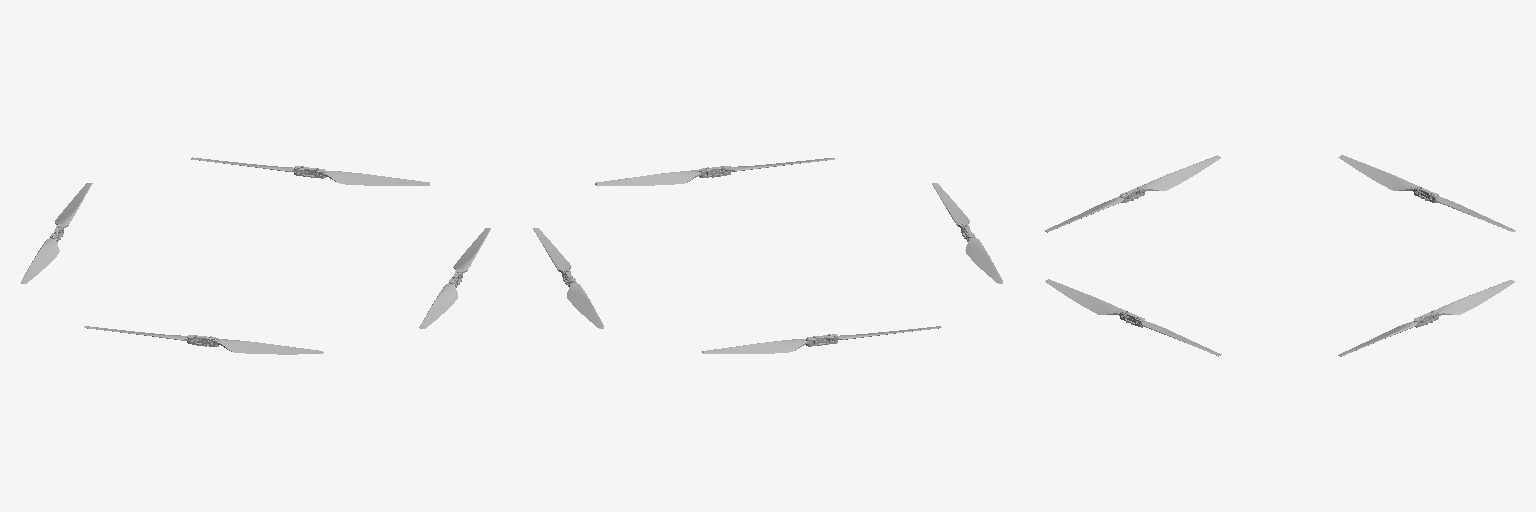
The robot description file, URDF, robot "drone_ros_sim_urdf":
<?xml version="1.0" encoding="utf-8"?>
<!-- This URDF was automatically created by SolidWorks to URDF Exporter! Originally created by Stephen Brawner ([email redacted]) 
     Commit Version: 1.6.0-4-g7f85cfe  Build Version: 1.6.7995.38578
     For more information, please see http://wiki.ros.org/sw_urdf_exporter -->
<robot
  name="drone_ros_sim_urdf">
  <link
    name="frame">
    <inertial>
      <origin
        xyz="-0.00033488 -8.1535E-05 0.46442"
        rpy="0 0 0" />
      <mass
        value="7.9807" />
      <inertia
        ixx="0.033649"
        ixy="1.2106E-06"
        ixz="-2.0293E-06"
        iyy="0.029642"
        iyz="-1.0527E-07"
        izz="0.046218" />
    </inertial>
    <visual>
      <origin
        xyz="0 0 0"
        rpy="0 0 0" />
      <geometry>
        <mesh
          filename="package://drone_ros_sim_urdf/meshes/frame.STL" />
      </geometry>
      <material
        name="">
        <color
          rgba="1 1 1 1" />
      </material>
    </visual>
    <collision>
      <origin
        xyz="0 0 0"
        rpy="0 0 0" />
      <geometry>
        <mesh
          filename="package://drone_ros_sim_urdf/meshes/frame.STL" />
      </geometry>
    </collision>
  </link>
  <link
    name="prop1_ccw">
    <inertial>
      <origin
        xyz="0.45342 0.45343 0.54325"
        rpy="0 0 0" />
      <mass
        value="0.10735" />
      <inertia
        ixx="0.00027815"
        ixy="0.00028006"
        ixz="1.0025E-08"
        iyy="0.00030502"
        iyz="-8.1576E-09"
        izz="0.00058081" />
    </inertial>
    <visual>
      <origin
        xyz="0 0 0"
        rpy="0 0 0" />
      <geometry>
        <mesh
          filename="package://drone_ros_sim_urdf/meshes/prop1_ccw.STL" />
      </geometry>
      <material
        name="">
        <color
          rgba="0.75294 0.75294 0.75294 1" />
      </material>
    </visual>
    <collision>
      <origin
        xyz="0 0 0"
        rpy="0 0 0" />
      <geometry>
        <mesh
          filename="package://drone_ros_sim_urdf/meshes/prop1_ccw.STL" />
      </geometry>
    </collision>
  </link>
  <joint
    name="joint1"
    type="continuous">
    <origin
      xyz="0 0 0"
      rpy="0 0 0" />
    <parent
      link="frame" />
    <child
      link="prop1_ccw" />
    <axis
      xyz="0 0 1" />
    <limit
      effort="9.55"
      velocity="10.472" />
  </joint>
  <link
    name="prop2_ccw">
    <inertial>
      <origin
        xyz="-0.45273 -0.45272 0.54325"
        rpy="0 0 0" />
      <mass
        value="0.10735" />
      <inertia
        ixx="0.00027815"
        ixy="0.00028006"
        ixz="1.0025E-08"
        iyy="0.00030502"
        iyz="-8.158E-09"
        izz="0.00058081" />
    </inertial>
    <visual>
      <origin
        xyz="0 0 0"
        rpy="0 0 0" />
      <geometry>
        <mesh
          filename="package://drone_ros_sim_urdf/meshes/prop2_ccw.STL" />
      </geometry>
      <material
        name="">
        <color
          rgba="0.75294 0.75294 0.75294 1" />
      </material>
    </visual>
    <collision>
      <origin
        xyz="0 0 0"
        rpy="0 0 0" />
      <geometry>
        <mesh
          filename="package://drone_ros_sim_urdf/meshes/prop2_ccw.STL" />
      </geometry>
    </collision>
  </link>
  <joint
    name="joint2"
    type="continuous">
    <origin
      xyz="0 0 0"
      rpy="0 0 0" />
    <parent
      link="frame" />
    <child
      link="prop2_ccw" />
    <axis
      xyz="0 0 1" />
    <limit
      effort="9.55"
      velocity="10.472" />
  </joint>
  <link
    name="prop3_cw">
    <inertial>
      <origin
        xyz="-0.45342 0.45343 0.54325"
        rpy="0 0 0" />
      <mass
        value="0.10734" />
      <inertia
        ixx="0.00027811"
        ixy="-0.00028002"
        ixz="-1.0035E-08"
        iyy="0.00030496"
        iyz="-8.1513E-09"
        izz="0.00058072" />
    </inertial>
    <visual>
      <origin
        xyz="0 0 0"
        rpy="0 0 0" />
      <geometry>
        <mesh
          filename="package://drone_ros_sim_urdf/meshes/prop3_cw.STL" />
      </geometry>
      <material
        name="">
        <color
          rgba="0.75294 0.75294 0.75294 1" />
      </material>
    </visual>
    <collision>
      <origin
        xyz="0 0 0"
        rpy="0 0 0" />
      <geometry>
        <mesh
          filename="package://drone_ros_sim_urdf/meshes/prop3_cw.STL" />
      </geometry>
    </collision>
  </link>
  <joint
    name="joint3"
    type="continuous">
    <origin
      xyz="0 0 0"
      rpy="0 0 0" />
    <parent
      link="frame" />
    <child
      link="prop3_cw" />
    <axis
      xyz="0 0 1" />
    <limit
      effort="9.55"
      velocity="10.472" />
  </joint>
  <link
    name="prop4_cw">
    <inertial>
      <origin
        xyz="0.45273 -0.45272 0.54325"
        rpy="0 0 0" />
      <mass
        value="0.10734" />
      <inertia
        ixx="0.00027813"
        ixy="-0.00028003"
        ixz="-1.0044E-08"
        iyy="0.00030498"
        iyz="-8.1591E-09"
        izz="0.00058075" />
    </inertial>
    <visual>
      <origin
        xyz="0 0 0"
        rpy="0 0 0" />
      <geometry>
        <mesh
          filename="package://drone_ros_sim_urdf/meshes/prop4_cw.STL" />
      </geometry>
      <material
        name="">
        <color
          rgba="0.75294 0.75294 0.75294 1" />
      </material>
    </visual>
    <collision>
      <origin
        xyz="0 0 0"
        rpy="0 0 0" />
      <geometry>
        <mesh
          filename="package://drone_ros_sim_urdf/meshes/prop4_cw.STL" />
      </geometry>
    </collision>
  </link>
  <joint
    name="joint4"
    type="continuous">
    <origin
      xyz="0 0 0"
      rpy="0 0 0" />
    <parent
      link="frame" />
    <child
      link="prop4_cw" />
    <axis
      xyz="0 0 1" />
    <limit
      effort="9.55"
      velocity="10.472" />
  </joint>
</robot>

--- What the picture shows (computed from the rendered views, not written in the file) ---
The picture shows the robot from 3 angles, left to right: view 1: azimuth 30°, elevation 25°; view 2: azimuth 150°, elevation 25°; view 3: azimuth 270°, elevation 25°; orthographic projection.
Model drone_ros_sim_urdf with 5 links and 4 joints (4 continuous), rooted at frame, posed all joints at 0.
Visible links, largest first — view 1: prop1_ccw, prop2_ccw, prop3_cw, prop4_cw; view 2: prop4_cw, prop3_cw, prop1_ccw, prop2_ccw; view 3: prop2_ccw, prop3_cw, prop1_ccw, prop4_cw.
Link boxes in pixels (x1,y1,x2,y2): prop1_ccw: (191, 157, 429, 185); prop2_ccw: (84, 326, 323, 354); prop3_cw: (21, 183, 92, 283); prop4_cw: (419, 228, 490, 328); prop4_cw: (595, 158, 834, 185); prop3_cw: (702, 326, 941, 353); prop1_ccw: (533, 228, 603, 328); prop2_ccw: (932, 183, 1002, 283); prop2_ccw: (1045, 155, 1220, 232); prop3_cw: (1338, 155, 1515, 231); prop1_ccw: (1338, 280, 1514, 356); prop4_cw: (1045, 279, 1221, 356).
Size in the robot's own frame: 1.47 by 1.45 by 0.028 metres.
Meshes: 5 distinct files referenced, 4 mesh visuals loaded (4 binary STL); not drawn: 1 (reference not matched to a file when rendering).
